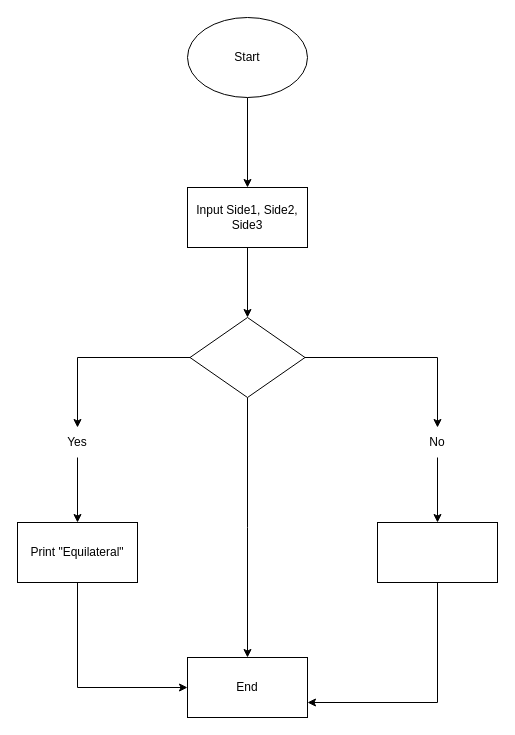
The diagram is 515 pixels wide and 735 high, and some of its shapes have lost their labels. Each missing label, with the centre of its shape:
Is Side1 = Side2 and Side3?: point 247,357
Print "Not Equilateral: point 437,552
